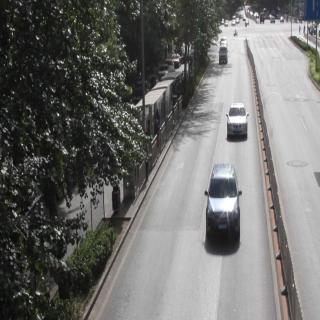Car: (206, 155, 243, 249), (224, 101, 258, 143), (214, 39, 232, 65)
